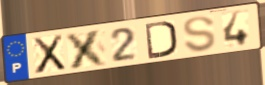2: (109, 26, 139, 64)
4: (223, 9, 253, 48)
D: (143, 20, 179, 61)
S: (181, 15, 218, 54)
X: (64, 27, 110, 71), (30, 32, 67, 76)
